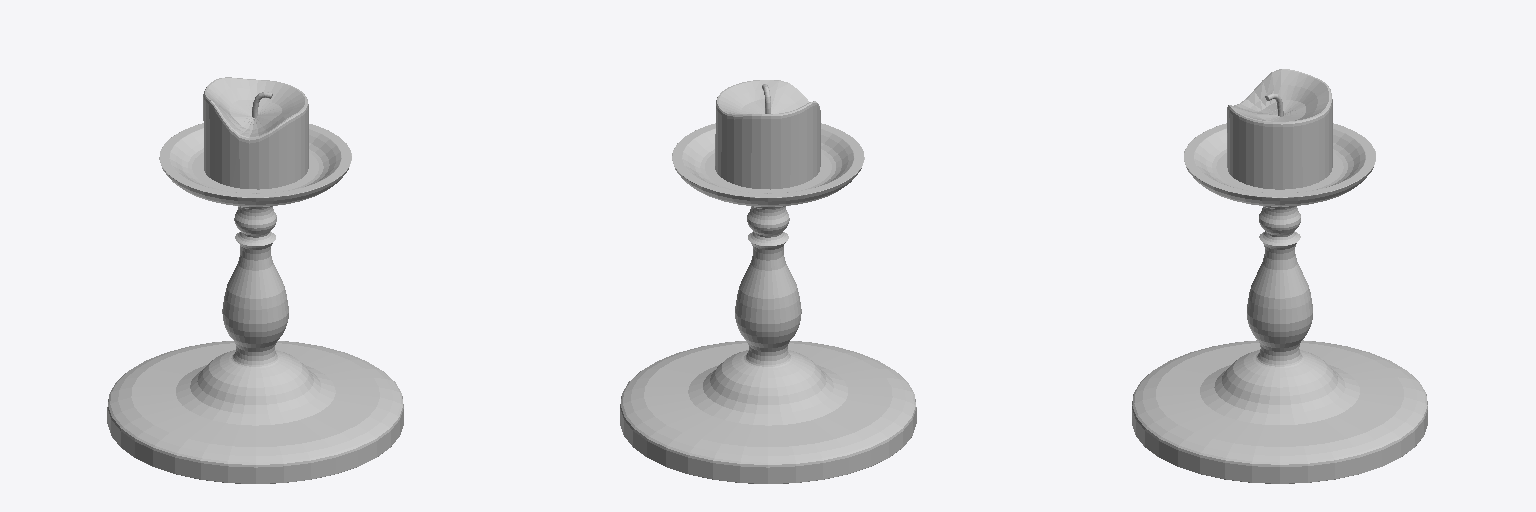
The model's file is candle.obj.
The picture shows the model from 3 angles: view 1: azimuth 30°, elevation 25°; view 2: azimuth 150°, elevation 25°; view 3: azimuth 270°, elevation 25°; orthographic projection.
Parts seen in each view (by area): view 1: Cylinder001, Cylinder002; view 2: Cylinder001, Cylinder002; view 3: Cylinder001, Cylinder002.
Boxes of the visible parts, x1=… form: Cylinder001: x1=107, y1=123, x2=403, y2=483; Cylinder002: x1=203, y1=77, x2=308, y2=189; Cylinder001: x1=620, y1=123, x2=916, y2=483; Cylinder002: x1=715, y1=80, x2=820, y2=189; Cylinder001: x1=1132, y1=123, x2=1427, y2=483; Cylinder002: x1=1227, y1=69, x2=1332, y2=189.
Bounding box in the file's own units: 54.08 × 66.76 × 54.14.